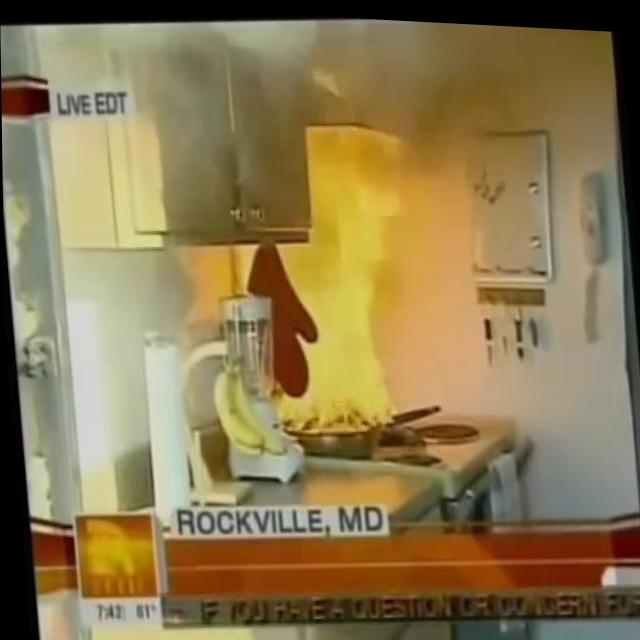fire: (237, 114, 410, 436)
